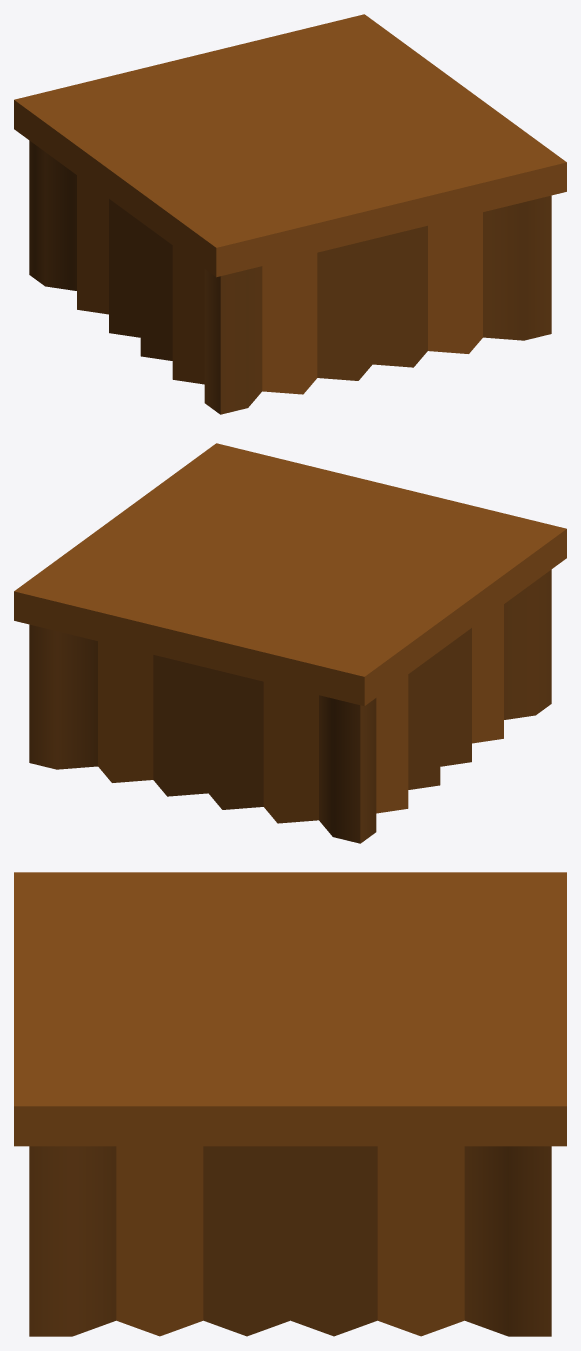
File: 1x1x5_wood.fbx
The picture shows the model from 3 angles, top to bottom: view 1: azimuth 30°, elevation 25°; view 2: azimuth 150°, elevation 25°; view 3: azimuth 270°, elevation 25°; orthographic projection. The views are drawn at different scales.
Parts seen in each view (by area): view 1: x1x5_wood:x1x5_wood:polySurface2; view 2: x1x5_wood:x1x5_wood:polySurface2; view 3: x1x5_wood:x1x5_wood:polySurface2.
Boxes of the visible parts, <box> form: x1x5_wood:x1x5_wood:polySurface2: <box>14,14,566,414</box>; x1x5_wood:x1x5_wood:polySurface2: <box>14,443,566,843</box>; x1x5_wood:x1x5_wood:polySurface2: <box>14,872,566,1336</box>.
Size of the model in its own units: 106 by 50 by 106.
1 material, 1 textured.
